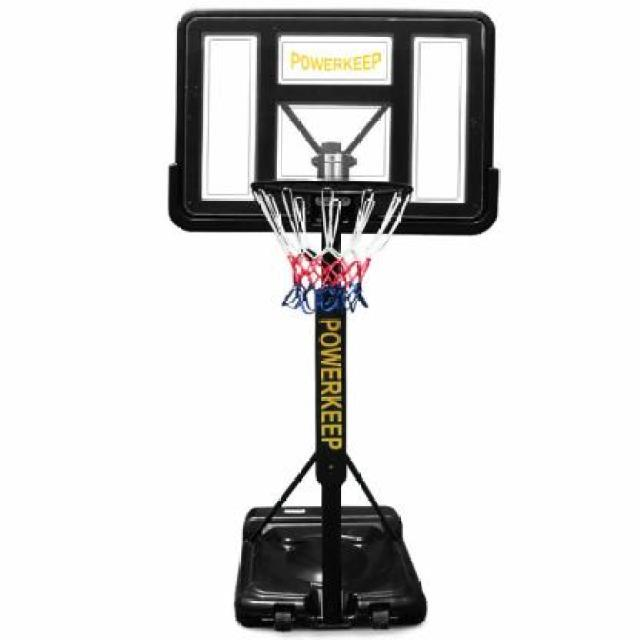rim: (254, 182, 412, 314)
